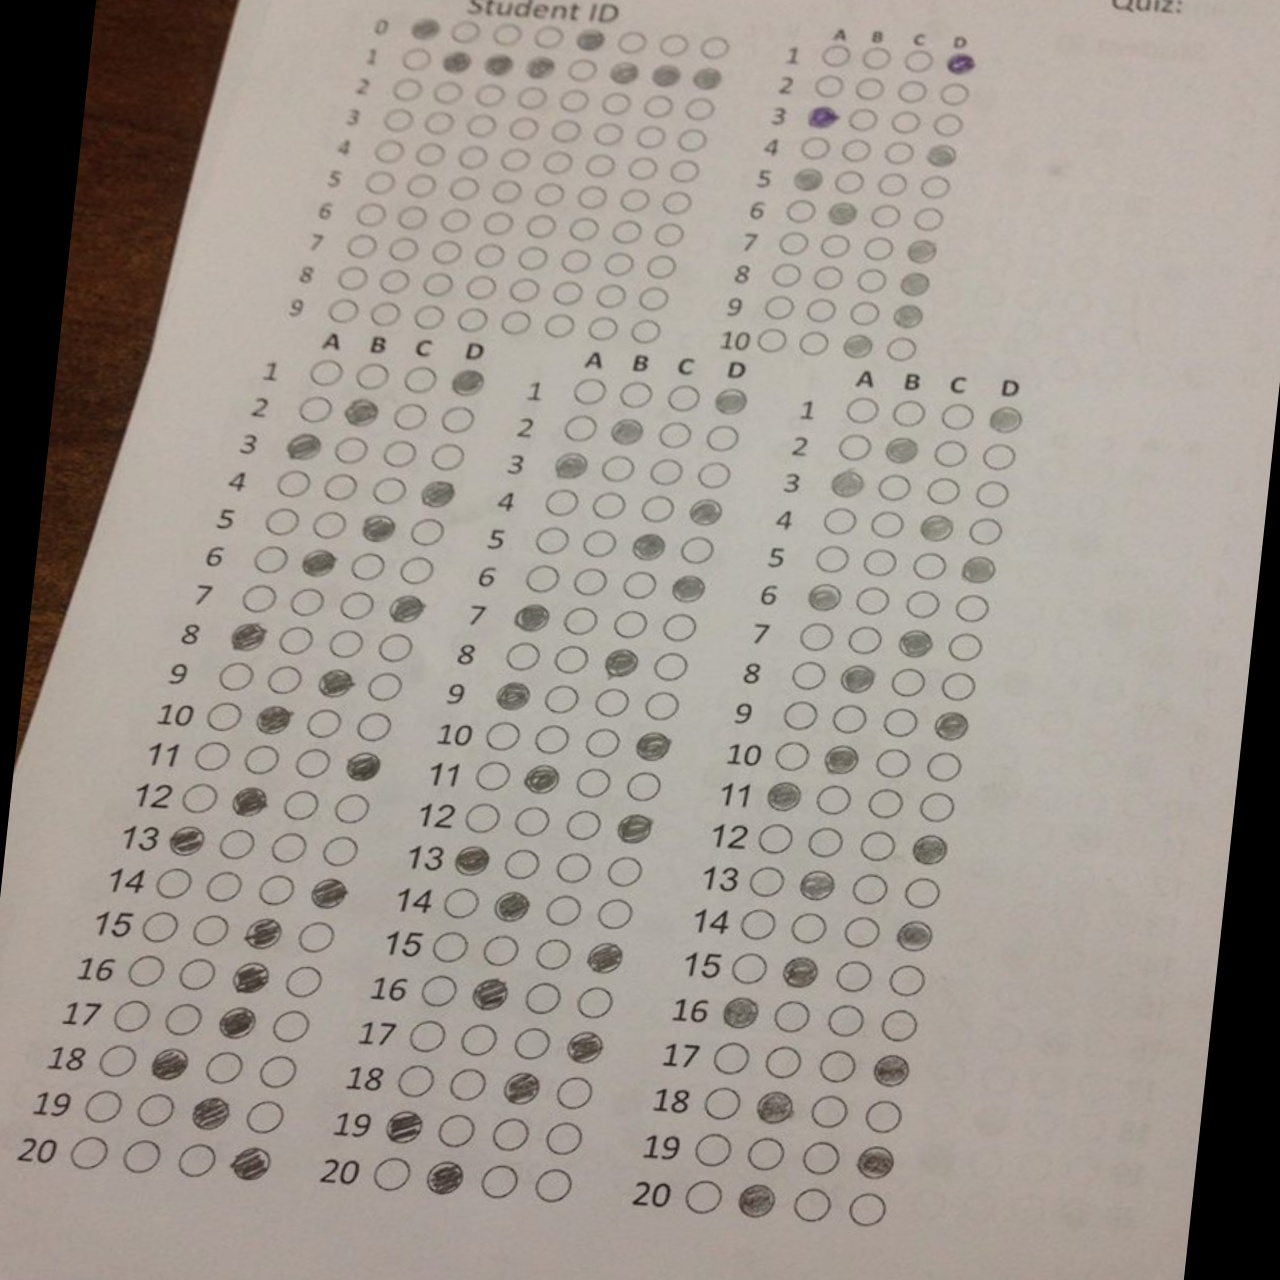not-c: (679, 1176, 727, 1218), (433, 1108, 481, 1148), (161, 1000, 206, 1040), (282, 962, 326, 1002), (244, 1097, 290, 1135), (530, 1164, 576, 1201), (707, 1040, 753, 1077), (79, 1088, 125, 1124), (95, 1042, 139, 1080), (849, 1189, 890, 1228), (481, 1162, 524, 1199), (274, 621, 319, 658), (574, 982, 619, 1019), (213, 826, 259, 862), (188, 913, 233, 948), (266, 1010, 312, 1046), (455, 1023, 501, 1058), (489, 1118, 535, 1153), (920, 748, 966, 783), (689, 1131, 735, 1166), (278, 787, 325, 821), (294, 921, 341, 955), (111, 998, 152, 1036), (122, 1136, 163, 1175), (745, 1133, 787, 1172), (877, 1007, 920, 1043), (728, 951, 772, 986), (948, 591, 998, 622), (202, 1050, 247, 1084), (481, 934, 526, 968), (554, 1073, 595, 1110), (914, 791, 961, 824), (802, 1139, 843, 1177), (353, 707, 395, 743), (125, 949, 168, 986), (70, 1131, 113, 1167), (849, 870, 891, 906), (832, 956, 874, 993), (368, 474, 411, 509), (288, 747, 334, 779), (136, 910, 182, 942), (622, 769, 663, 805), (237, 743, 284, 775), (316, 833, 360, 867), (471, 760, 515, 794), (542, 894, 585, 928), (531, 940, 577, 972), (510, 1027, 556, 1058), (154, 866, 195, 901), (397, 1064, 438, 1099), (903, 587, 944, 622), (887, 962, 928, 998), (792, 1187, 833, 1223), (177, 1141, 219, 1175), (942, 631, 985, 665), (699, 1087, 741, 1121), (286, 584, 329, 617), (304, 707, 347, 740), (425, 931, 469, 964), (770, 740, 813, 772), (735, 908, 778, 941), (338, 587, 377, 622), (372, 1156, 411, 1191), (135, 1092, 176, 1126), (462, 801, 503, 835), (420, 974, 461, 1008), (523, 980, 564, 1014), (544, 1122, 585, 1156), (967, 515, 1008, 549), (907, 549, 948, 583), (937, 670, 978, 704), (816, 1050, 857, 1084), (568, 375, 614, 406), (268, 831, 311, 864), (866, 787, 908, 819), (810, 1094, 852, 1126), (237, 583, 280, 614), (191, 741, 234, 772), (581, 728, 625, 760), (844, 626, 887, 658), (753, 823, 796, 855), (789, 913, 832, 945), (825, 1005, 869, 1036), (863, 1101, 906, 1132), (256, 873, 294, 908), (258, 1054, 297, 1089), (764, 1044, 803, 1080), (213, 662, 258, 693), (744, 867, 789, 898), (178, 956, 218, 990), (651, 649, 690, 683), (543, 682, 583, 716), (781, 697, 821, 731), (308, 509, 349, 542), (204, 700, 245, 733), (332, 791, 373, 824), (200, 870, 241, 903), (871, 747, 912, 779), (859, 829, 900, 862), (866, 509, 908, 540), (812, 784, 855, 816), (805, 828, 847, 859), (844, 917, 886, 948), (553, 850, 592, 884), (605, 855, 644, 888), (451, 1068, 490, 1102), (830, 701, 869, 735), (890, 665, 930, 697), (595, 899, 636, 931), (771, 1001, 812, 1033), (617, 377, 659, 408), (922, 475, 965, 505), (704, 422, 743, 455), (250, 544, 290, 576), (367, 670, 407, 702), (561, 604, 601, 635), (331, 435, 372, 465), (428, 442, 469, 472), (442, 888, 483, 919), (408, 1021, 449, 1051), (900, 878, 941, 908), (660, 614, 702, 644), (482, 720, 524, 749), (978, 442, 1020, 471), (554, 644, 592, 676), (418, 268, 457, 300), (523, 564, 561, 595), (789, 660, 828, 692), (324, 629, 367, 658), (307, 358, 347, 388), (379, 438, 418, 469), (535, 726, 574, 756), (974, 478, 1014, 509), (845, 397, 887, 425), (440, 404, 478, 435), (350, 551, 389, 581), (397, 554, 436, 585), (375, 633, 414, 663), (181, 784, 219, 815), (591, 491, 629, 522), (513, 806, 552, 837), (881, 708, 920, 738), (531, 527, 574, 554), (379, 107, 418, 136), (547, 278, 587, 307), (915, 172, 955, 202), (874, 472, 914, 502), (821, 508, 860, 537), (797, 622, 837, 652), (665, 384, 706, 413), (503, 850, 539, 881), (297, 394, 334, 424), (648, 458, 686, 489), (565, 810, 602, 840), (857, 549, 899, 576), (409, 301, 448, 331), (656, 420, 695, 449), (612, 607, 651, 636), (600, 455, 636, 485), (679, 536, 715, 566), (888, 108, 925, 138), (890, 397, 926, 428), (941, 402, 978, 433), (539, 147, 577, 176), (478, 207, 516, 237), (495, 307, 532, 336), (265, 506, 302, 536), (640, 493, 678, 523), (488, 177, 526, 205), (333, 265, 372, 293), (580, 529, 619, 557), (571, 567, 610, 595), (576, 770, 614, 798), (867, 202, 906, 230), (837, 433, 871, 464), (406, 519, 445, 546), (561, 414, 601, 441), (694, 462, 734, 489), (842, 105, 881, 132), (830, 169, 870, 196), (404, 170, 440, 200), (463, 272, 498, 302), (267, 666, 302, 696), (645, 692, 680, 722), (818, 40, 853, 70), (610, 218, 646, 247), (324, 471, 360, 501), (544, 490, 580, 519), (836, 136, 872, 165), (455, 143, 492, 171), (455, 306, 492, 334), (402, 366, 440, 394), (390, 402, 428, 430), (620, 571, 658, 599), (855, 587, 893, 614), (438, 205, 474, 234), (884, 334, 919, 363), (634, 122, 670, 150), (372, 136, 408, 164), (813, 545, 850, 573), (428, 79, 465, 105), (472, 83, 510, 110), (666, 156, 703, 183), (629, 316, 667, 343), (504, 644, 542, 670), (858, 237, 897, 263), (754, 327, 792, 353), (447, 173, 481, 203), (542, 311, 576, 340), (388, 234, 423, 263), (585, 313, 620, 341), (275, 470, 311, 498), (931, 113, 966, 141), (794, 329, 829, 358), (413, 139, 449, 166), (642, 252, 679, 279), (593, 282, 629, 309), (326, 298, 362, 325), (593, 688, 629, 715), (934, 440, 971, 467), (362, 168, 396, 196), (368, 299, 402, 327), (508, 116, 543, 143), (353, 362, 388, 389), (937, 80, 972, 107), (429, 239, 465, 265), (811, 265, 847, 291), (765, 263, 803, 287), (392, 75, 425, 102), (652, 222, 686, 248), (472, 241, 506, 268), (508, 275, 542, 302), (874, 172, 908, 199), (516, 87, 551, 113), (421, 110, 456, 136), (499, 147, 535, 172), (617, 188, 652, 213), (394, 204, 429, 230), (558, 246, 593, 272), (379, 267, 414, 293), (881, 141, 917, 166), (776, 231, 811, 257), (853, 268, 888, 294), (849, 302, 885, 327), (568, 215, 601, 241), (762, 295, 795, 322), (804, 297, 837, 324), (624, 157, 661, 181), (448, 19, 482, 45), (399, 46, 433, 72), (697, 34, 731, 60), (656, 30, 690, 56), (464, 113, 498, 138), (531, 181, 565, 206), (911, 206, 945, 232), (660, 190, 695, 215), (641, 95, 678, 118), (617, 28, 649, 54), (490, 21, 523, 47), (683, 96, 716, 122), (897, 79, 930, 104), (576, 184, 610, 209), (602, 251, 636, 275), (821, 233, 855, 258), (591, 122, 626, 145), (636, 286, 672, 309), (810, 75, 845, 98), (855, 75, 885, 102), (550, 116, 581, 142), (676, 129, 708, 155), (526, 212, 558, 238), (567, 57, 600, 82), (559, 88, 592, 113), (355, 200, 388, 225), (600, 91, 634, 115), (583, 154, 617, 177), (903, 50, 937, 74), (799, 136, 833, 159), (783, 200, 817, 224), (345, 236, 377, 259), (515, 247, 547, 271), (862, 47, 894, 70), (533, 23, 564, 48)
taken-c: (421, 1158, 469, 1198), (381, 1108, 425, 1145), (229, 1145, 274, 1182), (612, 810, 658, 846), (149, 1047, 191, 1083), (451, 843, 493, 879), (306, 876, 349, 911), (229, 960, 272, 995), (215, 1005, 258, 1040), (469, 976, 512, 1012), (583, 940, 626, 975), (871, 1051, 914, 1087), (165, 824, 207, 859), (855, 1145, 897, 1180), (736, 1184, 779, 1218), (384, 593, 429, 626), (190, 1095, 231, 1130), (501, 1070, 542, 1105), (779, 954, 821, 989), (754, 1091, 795, 1126), (226, 620, 268, 654), (229, 784, 271, 818), (341, 750, 384, 783), (490, 890, 533, 922), (241, 917, 282, 951), (836, 662, 879, 694), (796, 869, 837, 901), (721, 996, 762, 1029), (252, 704, 294, 736), (565, 1030, 605, 1063), (669, 572, 709, 605), (404, 13, 445, 45), (910, 833, 948, 866), (634, 730, 674, 762), (493, 679, 533, 710), (512, 602, 552, 634), (894, 920, 934, 952), (315, 668, 356, 699), (894, 627, 935, 658), (930, 712, 971, 742), (881, 435, 920, 467), (959, 552, 998, 584), (823, 744, 862, 776), (764, 779, 803, 811), (602, 57, 642, 88), (710, 384, 750, 415), (549, 449, 588, 479), (828, 469, 867, 499), (805, 583, 845, 613), (627, 531, 668, 560), (358, 512, 399, 542), (604, 415, 645, 444), (339, 396, 380, 425), (448, 368, 486, 399), (523, 764, 561, 795), (685, 496, 724, 525), (416, 478, 456, 508), (281, 431, 322, 459), (986, 406, 1027, 434), (602, 647, 640, 678), (298, 547, 338, 576), (917, 513, 954, 543), (647, 60, 685, 88), (802, 104, 840, 131), (572, 27, 608, 55), (436, 48, 474, 75), (896, 271, 934, 297), (520, 52, 554, 81), (839, 332, 874, 360), (890, 302, 926, 329), (904, 237, 939, 264), (942, 50, 979, 76), (481, 52, 515, 79), (791, 166, 826, 192), (922, 143, 958, 168), (828, 200, 858, 227), (688, 66, 721, 88)
